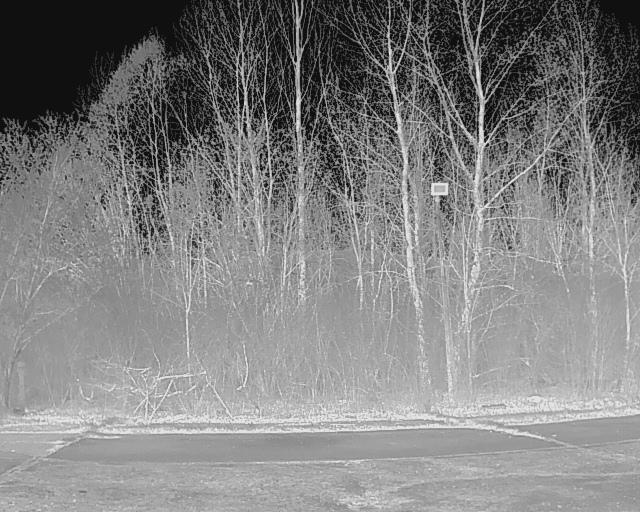drone: (228, 272, 272, 292)
